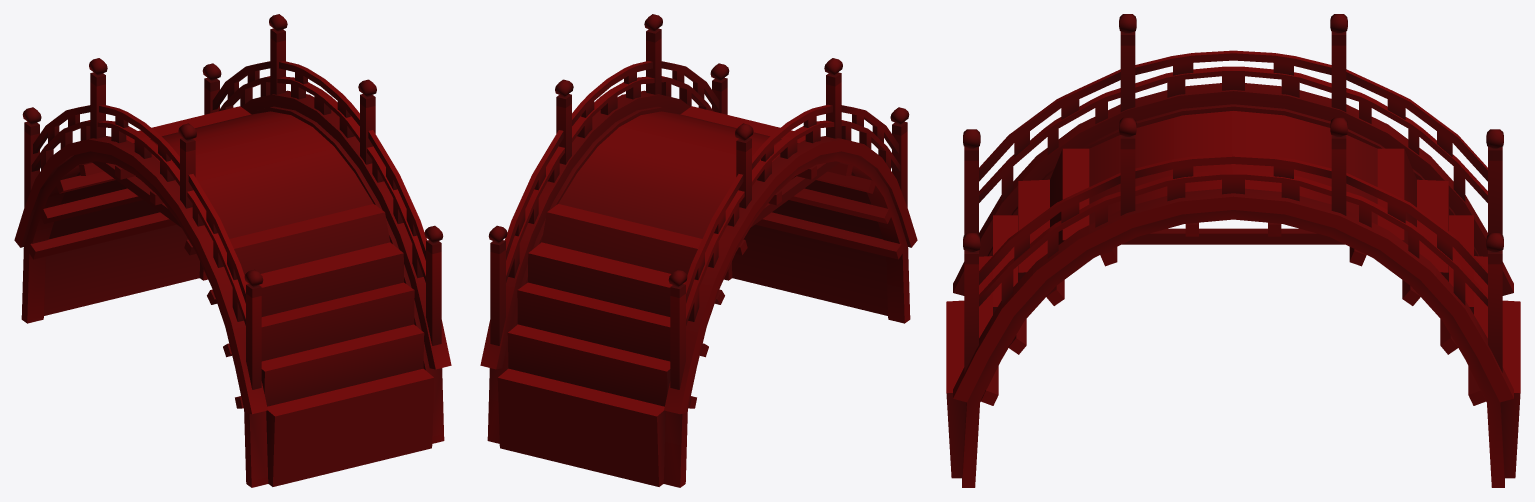
File: DrumBridge.glb
The picture shows the model from 3 angles, left to right: view 1: azimuth 30°, elevation 25°; view 2: azimuth 150°, elevation 25°; view 3: azimuth 270°, elevation 25°; orthographic projection. The views are drawn at different scales.
Visible parts, largest first — view 1: DrumBridge; view 2: DrumBridge; view 3: DrumBridge.
Boxes of the visible parts, x1,y1,x2,y2 form: DrumBridge: (14,14,451,487); DrumBridge: (480,14,917,487); DrumBridge: (946,14,1520,487).
Size of the model in its own units: 36.47 by 54.23 by 77.04.
